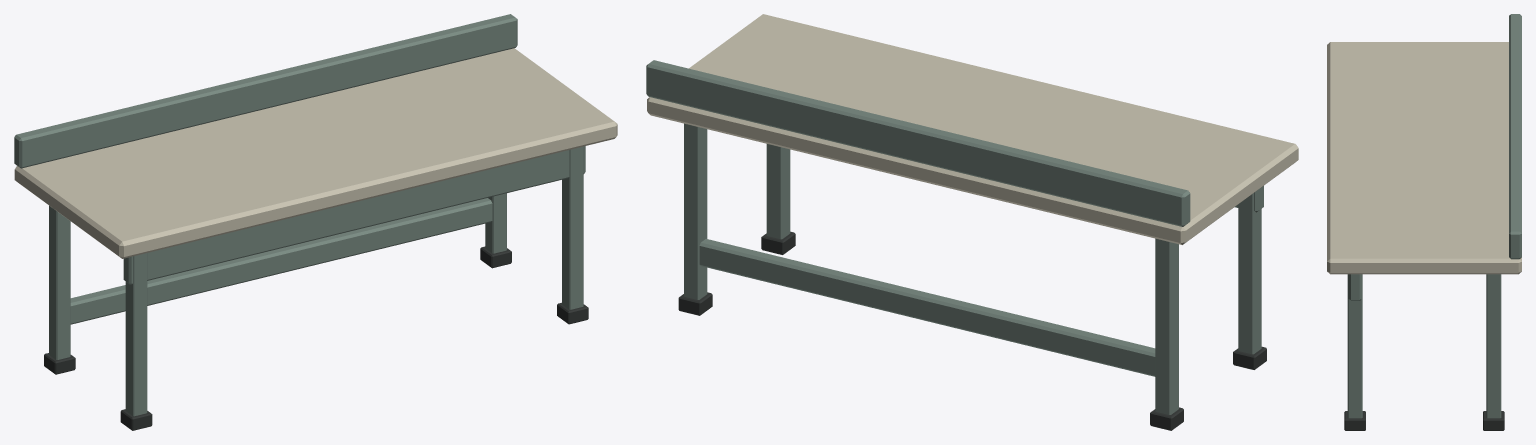
Rendered from lab_bench.glb.
3 renders of one model, left to right at view 1: azimuth 30°, elevation 25°; view 2: azimuth 150°, elevation 25°; view 3: azimuth 270°, elevation 25°, orthographic. The views are drawn at different scales.
Parts seen in each view (by area): view 1: Worktop, Rear splash lip, Front apron, Rear brace, Steel leg, Steel leg.002, Steel leg.001, Steel leg.003; view 2: Worktop, Rear splash lip, Rear brace, Steel leg.001, Steel leg.003, Steel leg, Steel leg.002; view 3: Worktop, Rear splash lip, Steel leg.003, Steel leg.002, Front apron, Rubber foot.002, Rubber foot.003.
Part boxes in pixels (x1,y1,x2,y2): Worktop: (14, 48, 617, 258); Rear splash lip: (14, 14, 517, 168); Front apron: (123, 146, 585, 284); Rear brace: (70, 198, 492, 324); Steel leg: (125, 253, 147, 416); Steel leg.002: (562, 146, 583, 309); Steel leg.001: (49, 205, 70, 359); Steel leg.003: (485, 193, 506, 253); Worktop: (647, 14, 1298, 244); Rear splash lip: (646, 60, 1190, 226); Rear brace: (699, 239, 1155, 376); Steel leg.001: (1155, 238, 1178, 414); Steel leg.003: (684, 123, 707, 299); Steel leg: (1238, 193, 1261, 354); Steel leg.002: (766, 144, 790, 239); Worktop: (1327, 42, 1521, 274); Rear splash lip: (1509, 14, 1521, 259); Steel leg.003: (1486, 274, 1501, 418); Steel leg.002: (1347, 274, 1362, 418); Front apron: (1348, 274, 1361, 300); Rubber foot.002: (1344, 411, 1365, 430); Rubber foot.003: (1483, 411, 1504, 430).
Size of the model in its own units: 2.4 by 1.06 by 0.9.
